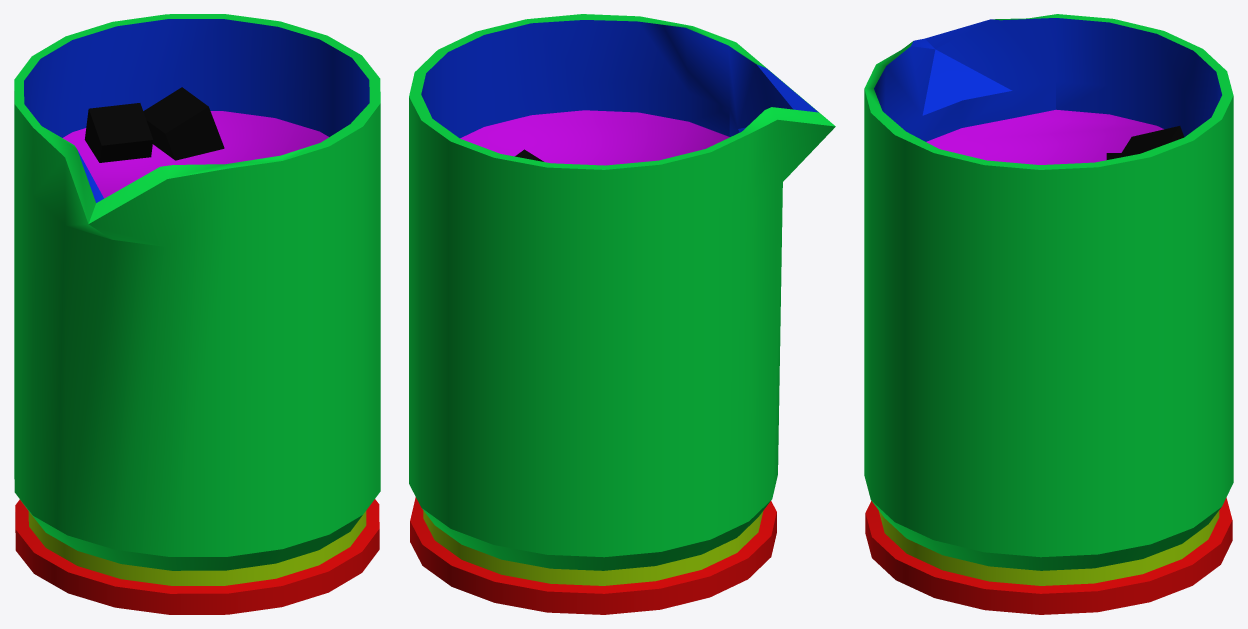
Rendered from Jarra.fbx.
3 views of the same model, side by side, from view 1: azimuth 30°, elevation 25°; view 2: azimuth 150°, elevation 25°; view 3: azimuth 270°, elevation 25° (orthographic).
Parts seen in each view (by area): view 1: Montón_Vasos_2.001; view 2: Montón_Vasos_2.001; view 3: Montón_Vasos_2.001.
Part boxes in pixels (bbox=[...]): Montón_Vasos_2.001: bbox=[14, 14, 380, 614]; Montón_Vasos_2.001: bbox=[409, 14, 835, 614]; Montón_Vasos_2.001: bbox=[864, 14, 1233, 614].
Bounding box in the file's own units: 0.4326 × 0.5504 × 0.4123.
